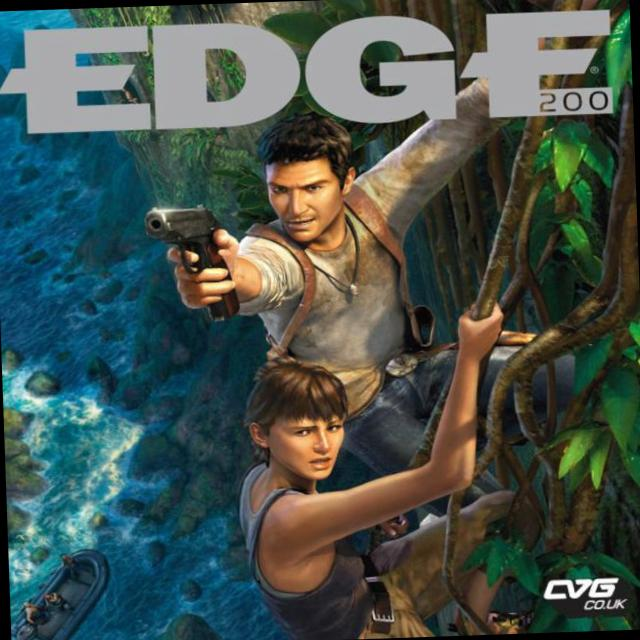Gun: (144, 205, 224, 272), (208, 292, 238, 319)
